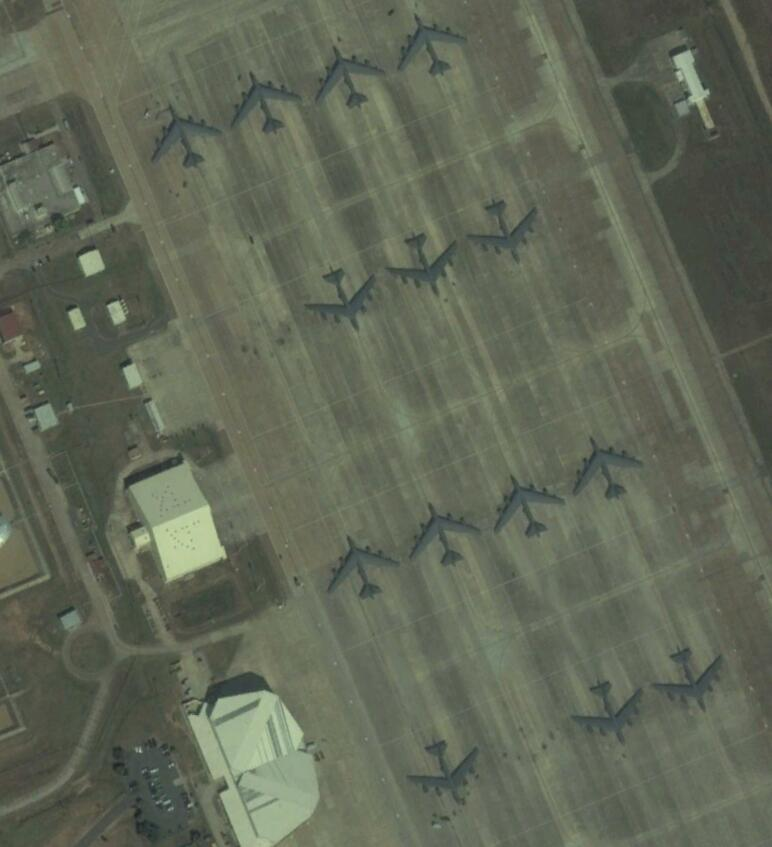A8: (649, 642, 728, 720), (145, 101, 225, 172), (388, 227, 464, 301), (408, 499, 484, 573), (409, 737, 484, 811), (324, 534, 403, 604), (467, 199, 544, 269), (571, 675, 645, 747), (303, 263, 377, 334), (572, 436, 647, 506), (493, 473, 567, 542), (230, 67, 303, 136), (397, 14, 470, 81), (314, 44, 386, 111)
